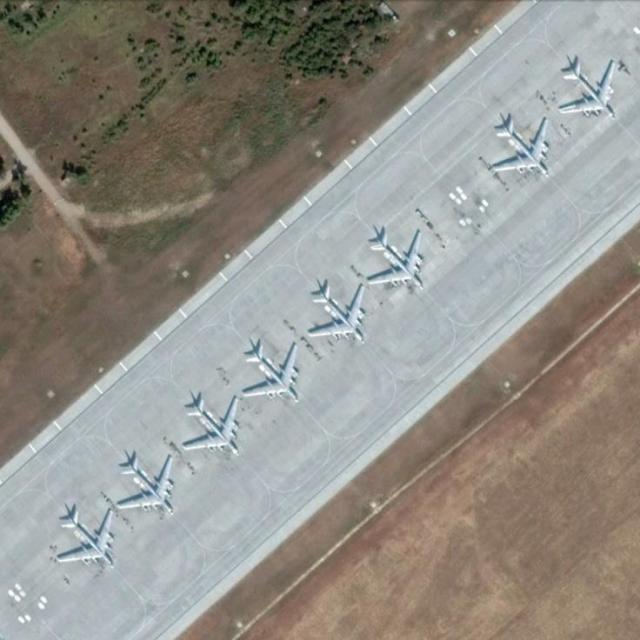fighter jet: (361, 228, 428, 301), (486, 104, 554, 174), (238, 335, 301, 405), (306, 266, 364, 342), (51, 496, 108, 571), (176, 392, 243, 455), (556, 57, 622, 120), (113, 452, 174, 519)
